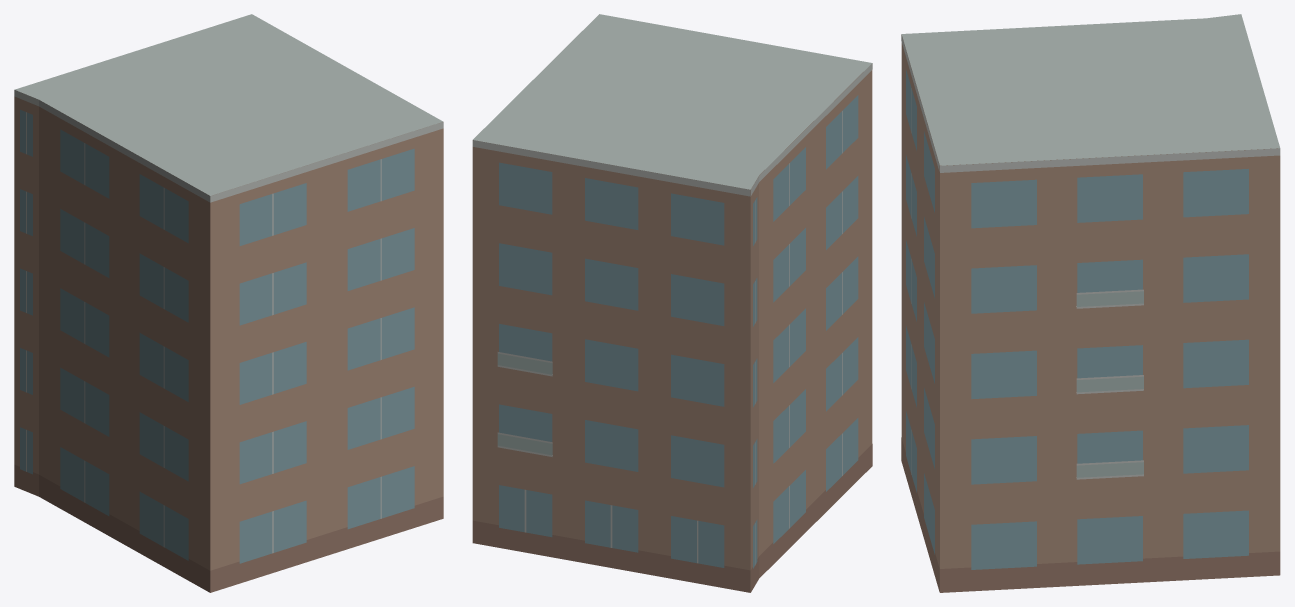
Rendered from survey-upis-32996268.glb.
3 views of the same model, side by side, from view 1: azimuth 30°, elevation 25°; view 2: azimuth 150°, elevation 25°; view 3: azimuth 270°, elevation 25° (orthographic). The views are drawn at different scales.
Visible parts, largest first — view 1: survey-upis-32996268.tmp; view 2: survey-upis-32996268.tmp; view 3: survey-upis-32996268.tmp.
Boxes of the visible parts, left/top/right/bottom form: survey-upis-32996268.tmp: left=14, top=14, right=443, bottom=592; survey-upis-32996268.tmp: left=472, top=14, right=872, bottom=592; survey-upis-32996268.tmp: left=901, top=14, right=1280, bottom=592.
Size of the model in its own units: 10.98 by 14.4 by 11.59.
